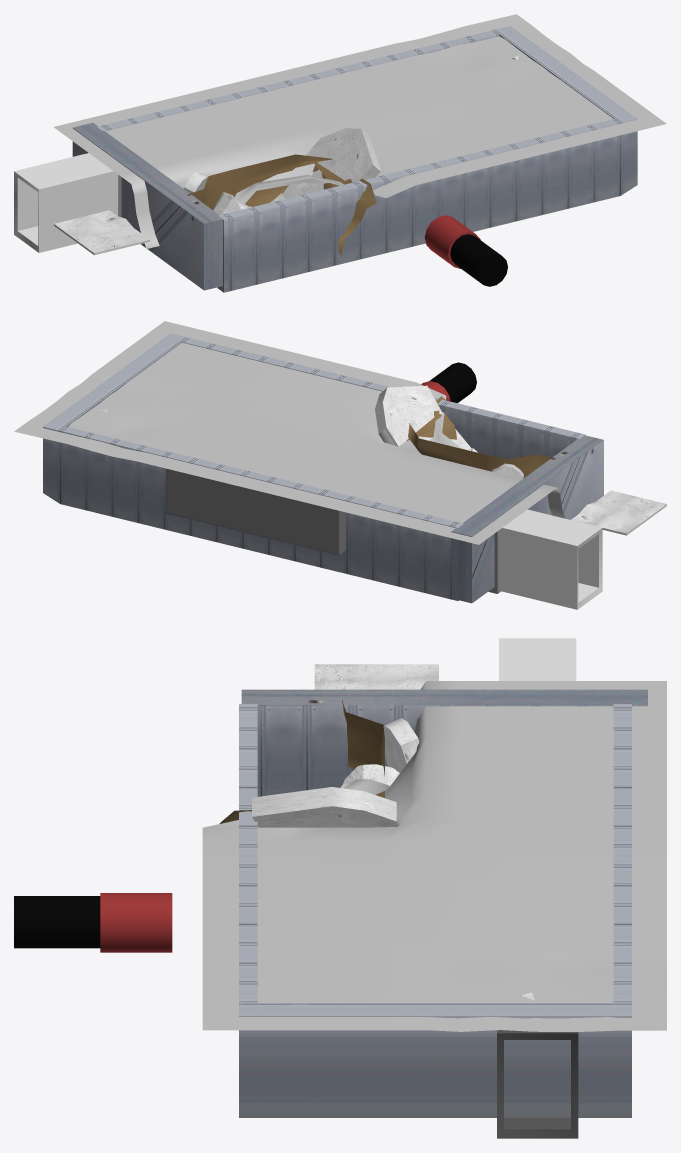
File: stage01.fbx
3 views of the same model, one above another, from view 1: azimuth 30°, elevation 25°; view 2: azimuth 150°, elevation 25°; view 3: azimuth 270°, elevation 25° (orthographic). The views are drawn at different scales.
Visible parts, largest first — view 1: pPlane2, pCube17, pPipe4, pPipe2, pPlane4, polySurface2, pCube14, pCylinder5, pPipe5, polySurface3; view 2: pPlane2, pCube17, pPipe2, pCube2, pPipe4, polySurface2, pPlane4, pCube14, pCylinder5; view 3: pPlane2, pCube17, pPipe4, polySurface2, pCylinder5, pPipe5, pPipe3, pPipe2, pCube14, pPlane4, pCube15, polySurface3.
Boxes of the visible parts, left/top/right/bottom form: pPlane2: left=54, top=14, right=666, bottom=248; pCube17: left=97, top=26, right=637, bottom=292; pPipe4: left=72, top=122, right=222, bottom=290; pPipe2: left=14, top=153, right=118, bottom=252; pPlane4: left=187, top=154, right=376, bottom=255; polySurface2: left=283, top=128, right=380, bottom=198; pCube14: left=54, top=210, right=149, bottom=255; pCylinder5: left=450, top=234, right=507, bottom=286; pPipe5: left=424, top=215, right=480, bottom=268; polySurface3: left=213, top=192, right=251, bottom=214; pPlane2: left=14, top=321, right=565, bottom=544; pCube17: left=43, top=333, right=585, bottom=600; pPipe2: left=497, top=509, right=602, bottom=609; pCube2: left=166, top=468, right=345, bottom=555; pPipe4: left=451, top=435, right=603, bottom=603; polySurface2: left=375, top=385, right=471, bottom=450; pPlane4: left=406, top=396, right=555, bottom=477; pCube14: left=571, top=490, right=666, bottom=535; pCylinder5: left=429, top=362, right=476, bottom=403; pPlane2: left=202, top=681, right=666, bottom=1031; pCube17: left=239, top=704, right=631, bottom=1117; pPipe4: left=241, top=689, right=647, bottom=796; polySurface2: left=252, top=787, right=400, bottom=827; pCylinder5: left=14, top=896, right=100, bottom=948; pPipe5: left=100, top=893, right=172, bottom=952; pPipe3: left=497, top=1030, right=578, bottom=1138; pPipe2: left=499, top=638, right=576, bottom=680; pCube14: left=314, top=664, right=438, bottom=689; pPlane4: left=219, top=700, right=384, bottom=823; pCube15: left=383, top=718, right=419, bottom=772; polySurface3: left=340, top=764, right=399, bottom=788.
Bounding box in the file's own units: 270 × 49.74 × 185.
